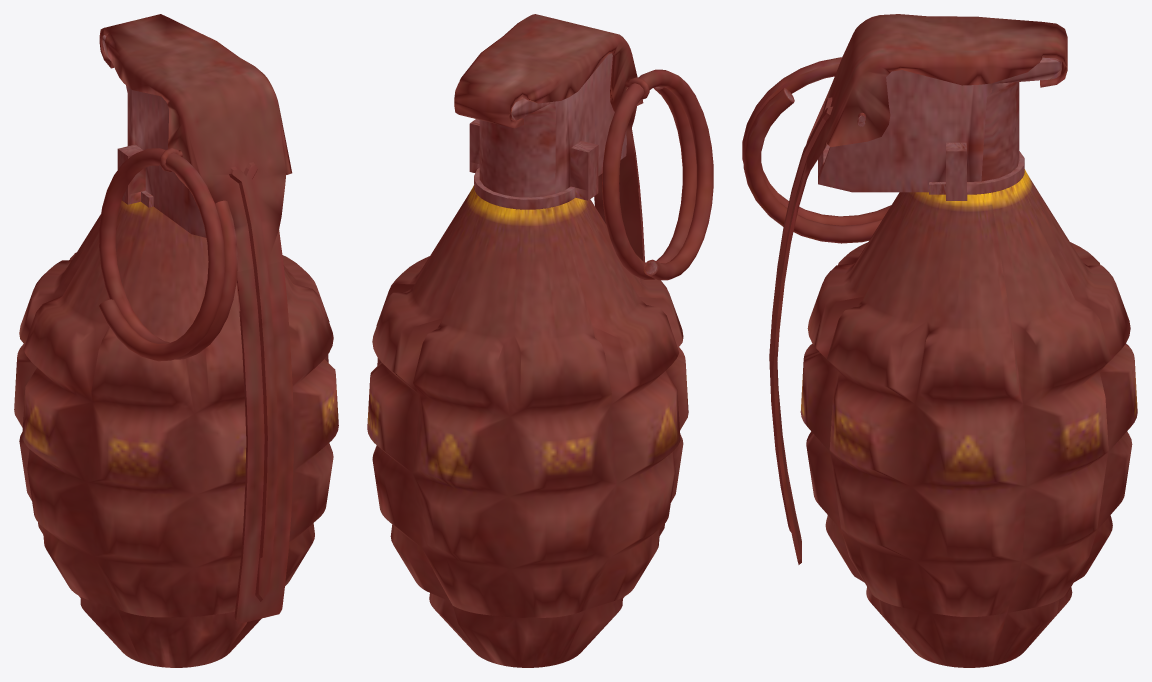
The picture shows the model from 3 angles, left to right: view 1: azimuth 30°, elevation 25°; view 2: azimuth 150°, elevation 25°; view 3: azimuth 270°, elevation 25°; orthographic projection. The views are drawn at different scales.
Parts seen in each view (by area): view 1: base, cover, ring, metal; view 2: base, cover, metal, ring; view 3: base, cover, metal, ring.
Part boxes in pixels (x1,y1,x2,y2): base: (14, 200, 338, 667); cover: (99, 14, 293, 624); ring: (99, 148, 237, 361); metal: (102, 35, 206, 237); base: (367, 185, 688, 667); cover: (454, 14, 644, 261); metal: (469, 53, 626, 209); ring: (602, 69, 713, 280); base: (800, 169, 1137, 667); cover: (769, 14, 1067, 564); metal: (818, 57, 1061, 200); ring: (742, 57, 891, 243).
Size of the model in its own units: 0.0804 by 0.16 by 0.0943.
Materials: 1 (1 with a texture image).
